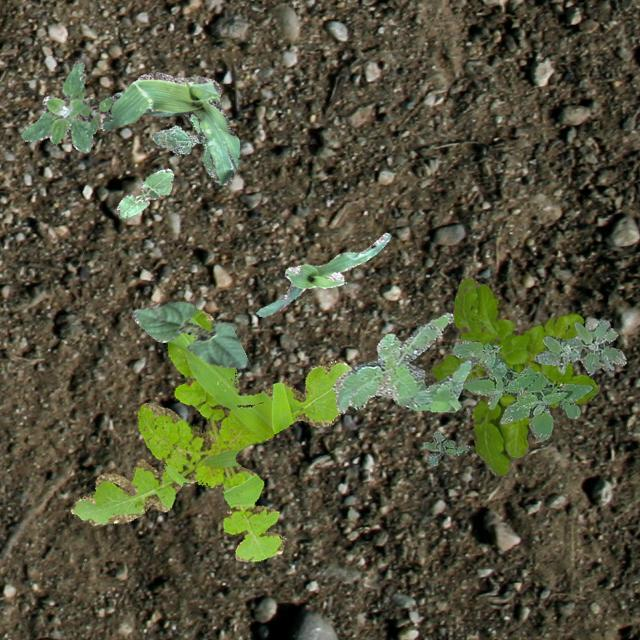crop: (100, 70, 238, 184), (255, 232, 390, 316), (130, 300, 250, 368), (116, 168, 172, 218)
weed: (70, 308, 350, 560), (428, 274, 598, 476), (452, 339, 592, 442), (332, 312, 476, 412), (20, 60, 110, 152), (534, 318, 626, 374), (152, 114, 214, 176), (422, 430, 468, 466), (584, 320, 592, 330)
